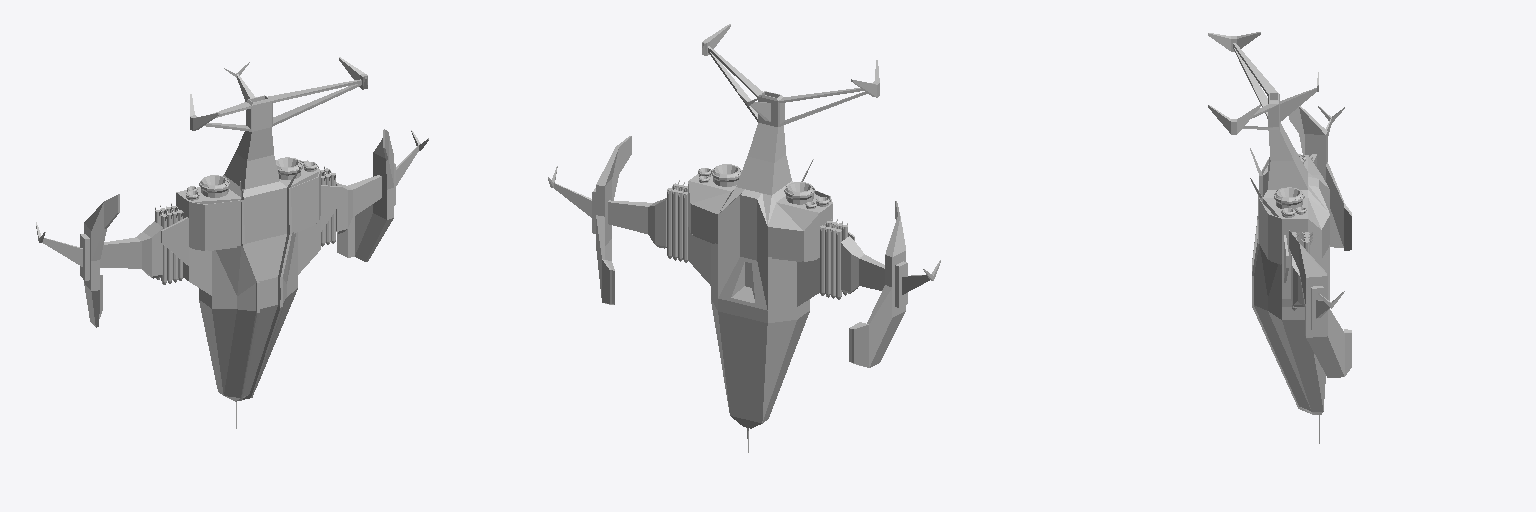
Rendered from CobraFighter.obj.
3 renders of one model, left to right at view 1: azimuth 30°, elevation 25°; view 2: azimuth 150°, elevation 25°; view 3: azimuth 270°, elevation 25°, orthographic.
Visible parts, largest first — view 1: Object01; view 2: Object01; view 3: Object01.
Part boxes in pixels (x1,y1,x2,y2): Object01: (36,57,428,428); Object01: (548,24,940,452); Object01: (1208,32,1351,443).
Bounding box in the file's own units: 81.82 × 76.3 × 26.7.